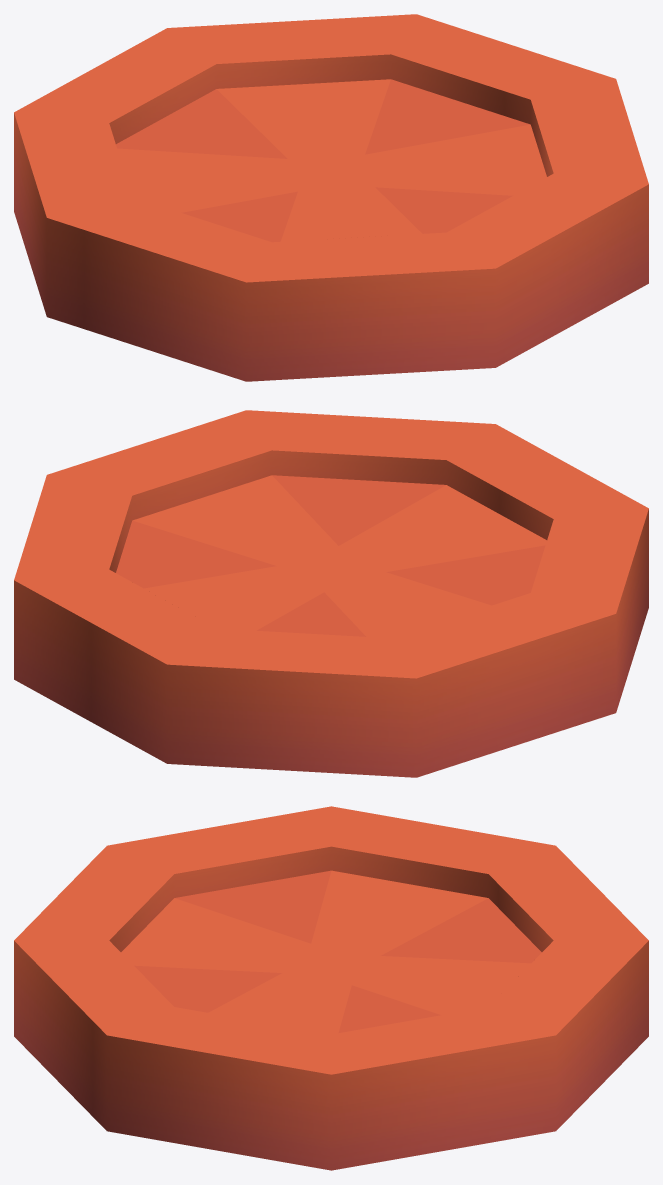
The model's file is kenney-food-tomato-slice.glb.
3 renders of one model, top to bottom at view 1: azimuth 30°, elevation 25°; view 2: azimuth 150°, elevation 25°; view 3: azimuth 270°, elevation 25°, orthographic. The views are drawn at different scales.
Visible parts, largest first — view 1: tomato-slice; view 2: tomato-slice; view 3: tomato-slice.
Part boxes in pixels (x1,y1,x2,y2): tomato-slice: (14, 14, 648, 381); tomato-slice: (14, 410, 648, 777); tomato-slice: (14, 806, 648, 1170).
Size of the model in its own units: 0.18 by 0.03 by 0.18.
1 material, 1 textured.
